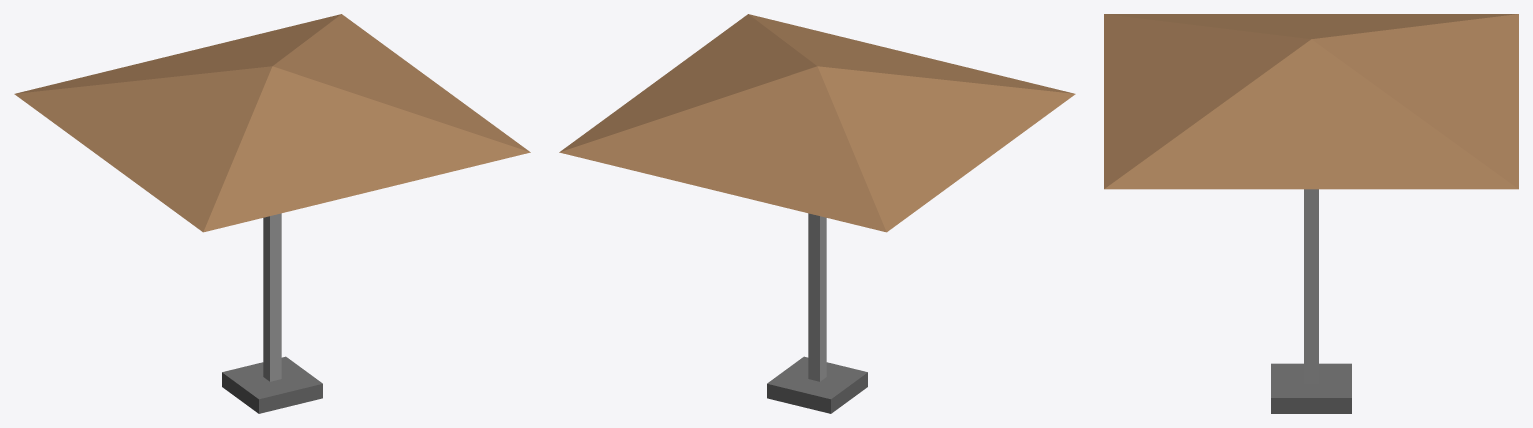
Rendered from Umbrella_02.fbx.
3 views of the same model, side by side, from view 1: azimuth 30°, elevation 25°; view 2: azimuth 150°, elevation 25°; view 3: azimuth 270°, elevation 25° (orthographic). The views are drawn at different scales.
Parts seen in each view (by area): view 1: Umbrella_02; view 2: Umbrella_02; view 3: Umbrella_02.
Part boxes in pixels (bbox=[...]): Umbrella_02: bbox=[14, 14, 530, 413]; Umbrella_02: bbox=[559, 14, 1075, 413]; Umbrella_02: bbox=[1104, 14, 1518, 413].
Bounding box in the file's own units: 300 × 285 × 300.
